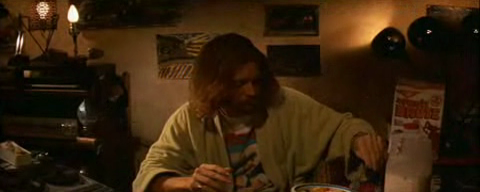face: (230, 66, 262, 112)
mcu: (1, 1, 480, 192)
person: (130, 32, 384, 192)
